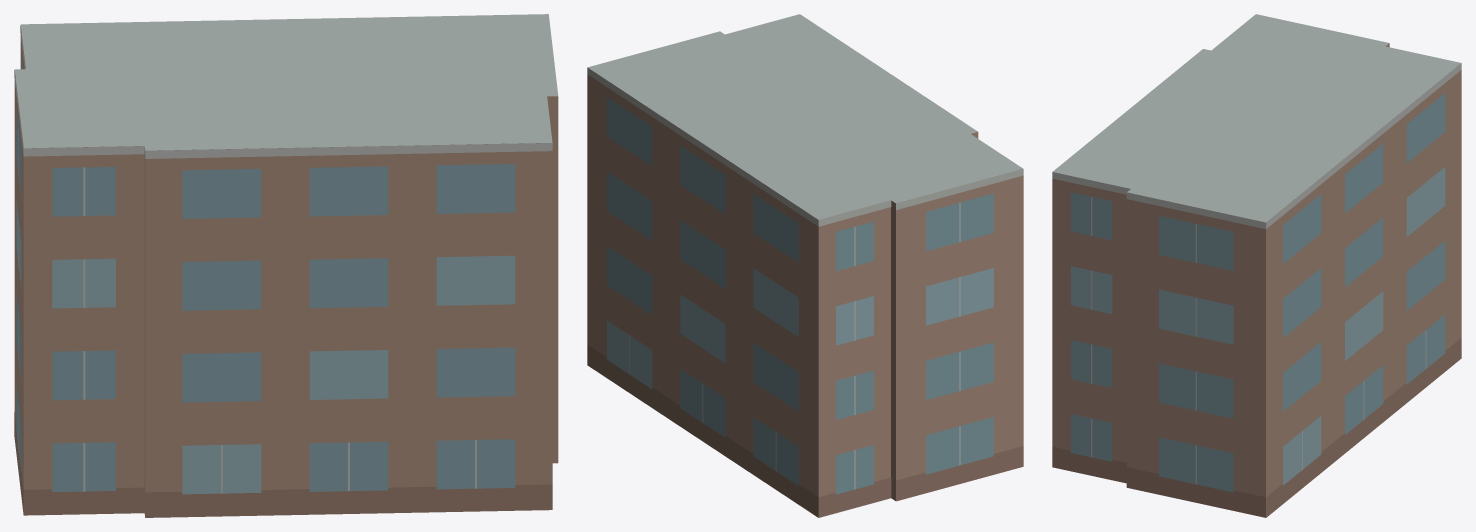
The model's file is survey-upis-32796127.glb.
The picture shows the model from 3 angles, left to right: view 1: azimuth 30°, elevation 25°; view 2: azimuth 150°, elevation 25°; view 3: azimuth 270°, elevation 25°; orthographic projection. The views are drawn at different scales.
Parts seen in each view (by area): view 1: survey-upis-32796127.tmp; view 2: survey-upis-32796127.tmp; view 3: survey-upis-32796127.tmp.
Part boxes in pixels (x1,y1,x2,y2): survey-upis-32796127.tmp: (14,14,558,517); survey-upis-32796127.tmp: (587,14,1023,517); survey-upis-32796127.tmp: (1052,14,1461,517).
Size of the model in its own units: 16.36 by 10.8 by 13.57.
